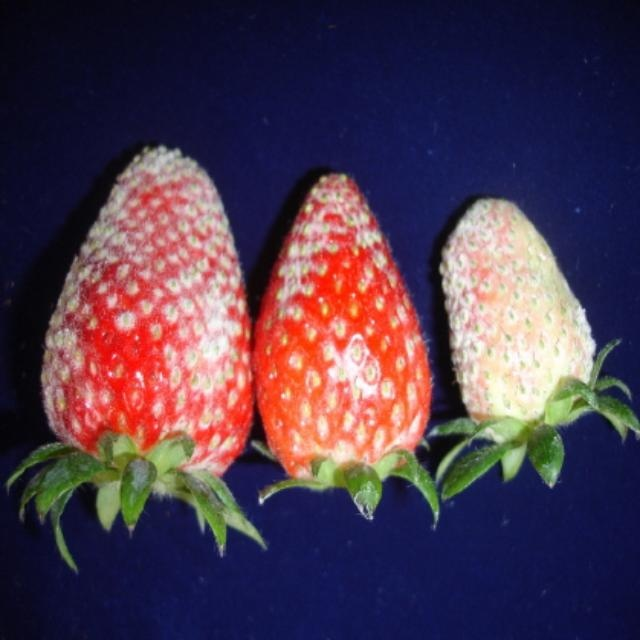Powdery Mildew Fruit: (40, 145, 257, 491), (248, 173, 434, 489), (440, 198, 601, 448)
